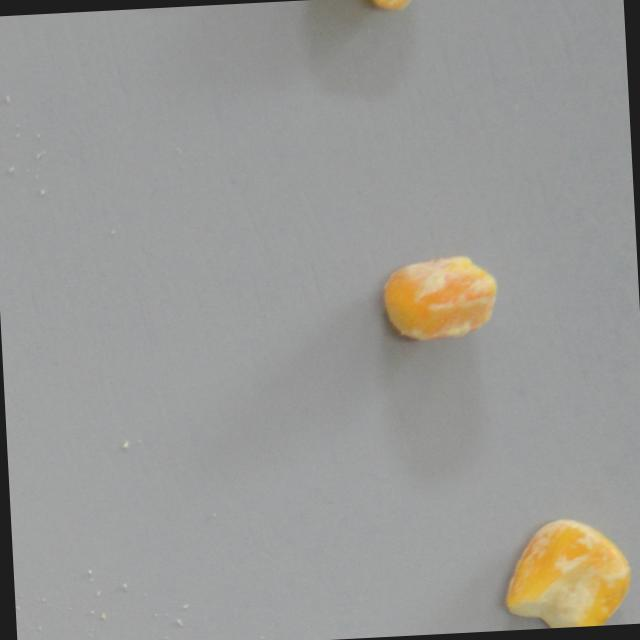pelicula: (498, 517, 633, 631), (379, 257, 499, 346), (307, 0, 430, 16)
